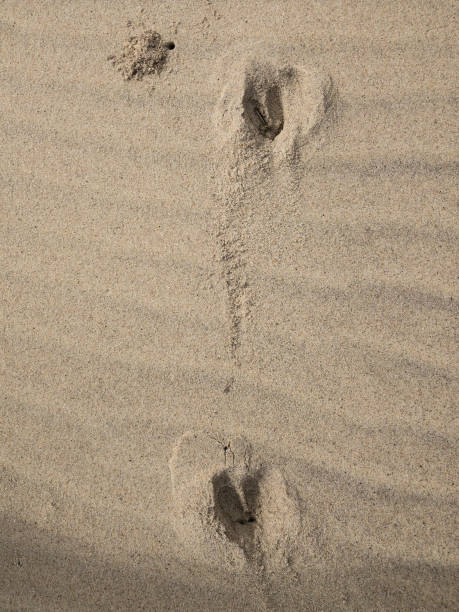animal_foot_print: (214, 51, 336, 365), (169, 432, 300, 573)
